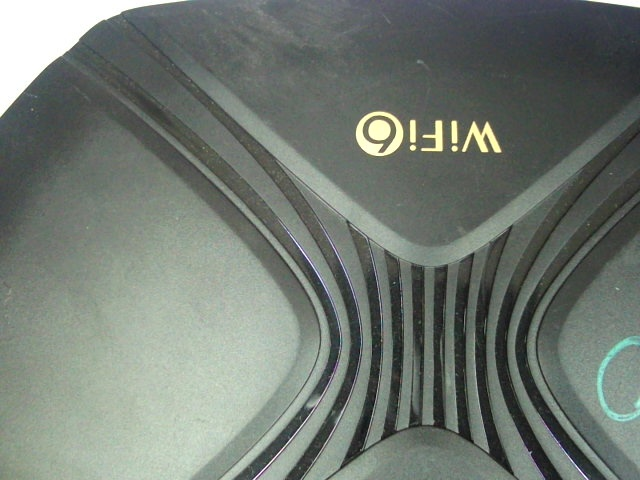AK_ZTEWIFI6Black: (348, 104, 508, 163)
